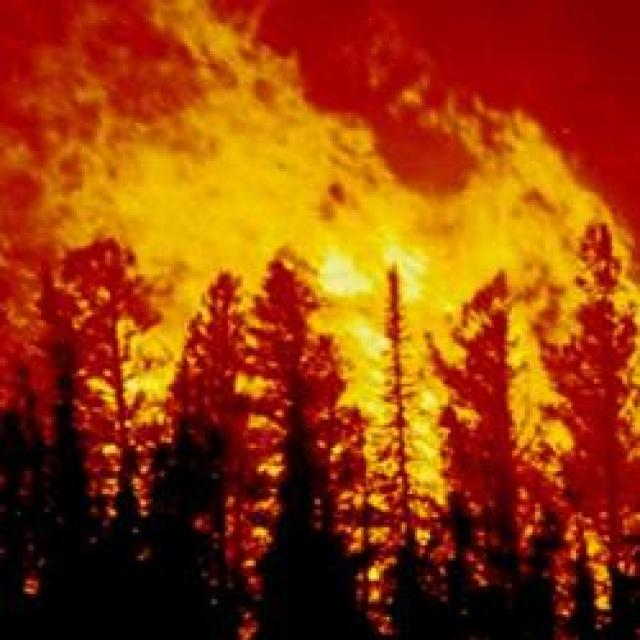fire: (17, 16, 640, 522)
